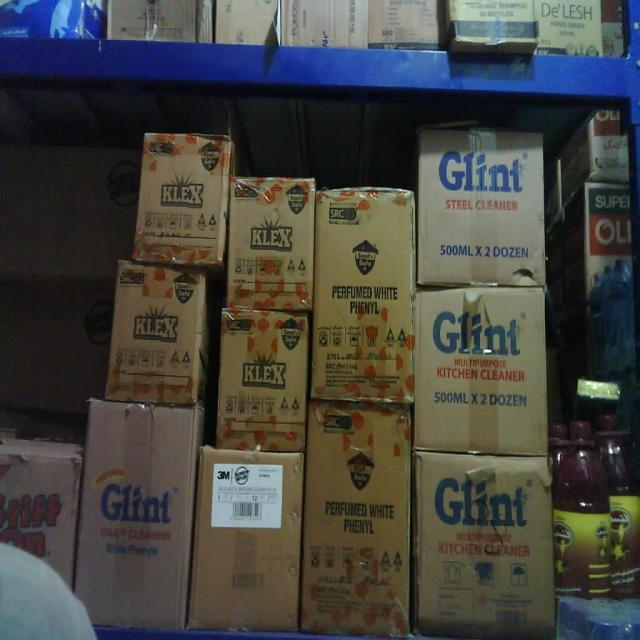cardboxes: (76, 390, 195, 636), (412, 451, 555, 640), (300, 404, 414, 640), (310, 184, 418, 409), (412, 286, 548, 458), (192, 442, 303, 638), (416, 128, 547, 289), (102, 257, 204, 410), (217, 306, 310, 459), (134, 129, 230, 271), (227, 176, 317, 316)
